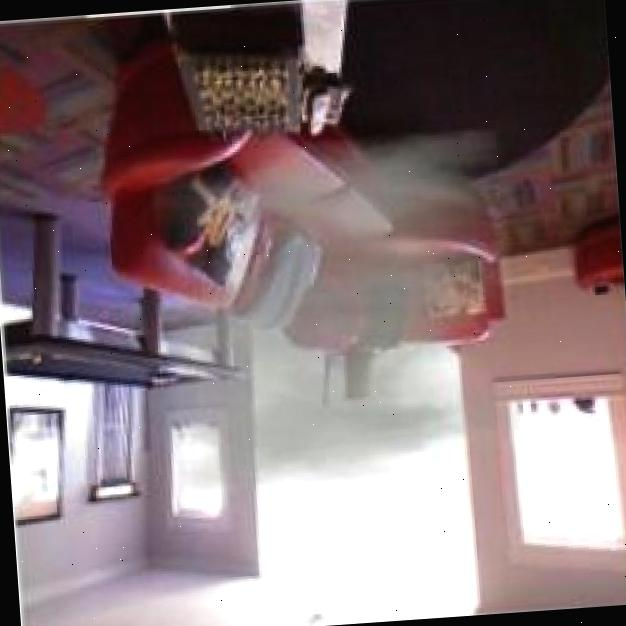smoke: (150, 127, 525, 495)
